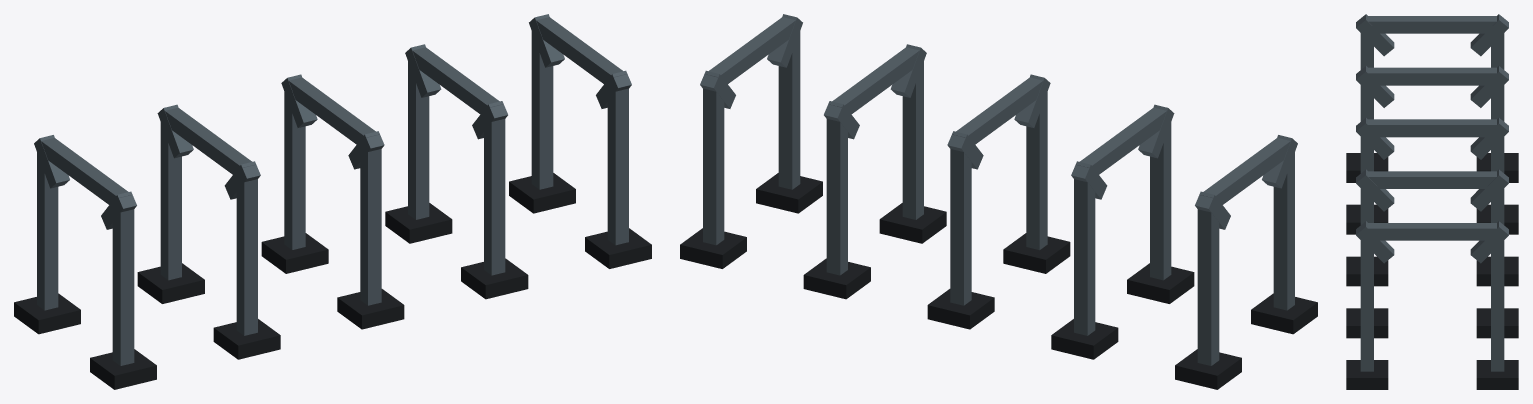
Rendered from lp_bike_rack.glb.
3 views of the same model, side by side, from view 1: azimuth 30°, elevation 25°; view 2: azimuth 150°, elevation 25°; view 3: azimuth 270°, elevation 25° (orthographic). The views are drawn at different scales.
Visible parts, largest first — view 1: lp_bike_rack; view 2: lp_bike_rack; view 3: lp_bike_rack.
Boxes of the visible parts, x1,y1,x2,y2 form: lp_bike_rack: (14, 14, 651, 389); lp_bike_rack: (680, 14, 1317, 389); lp_bike_rack: (1346, 14, 1518, 389).
Bounding box in the file's own units: 2.78 × 0.9058 × 0.9.
Materials: 1 (1 with a texture image).
